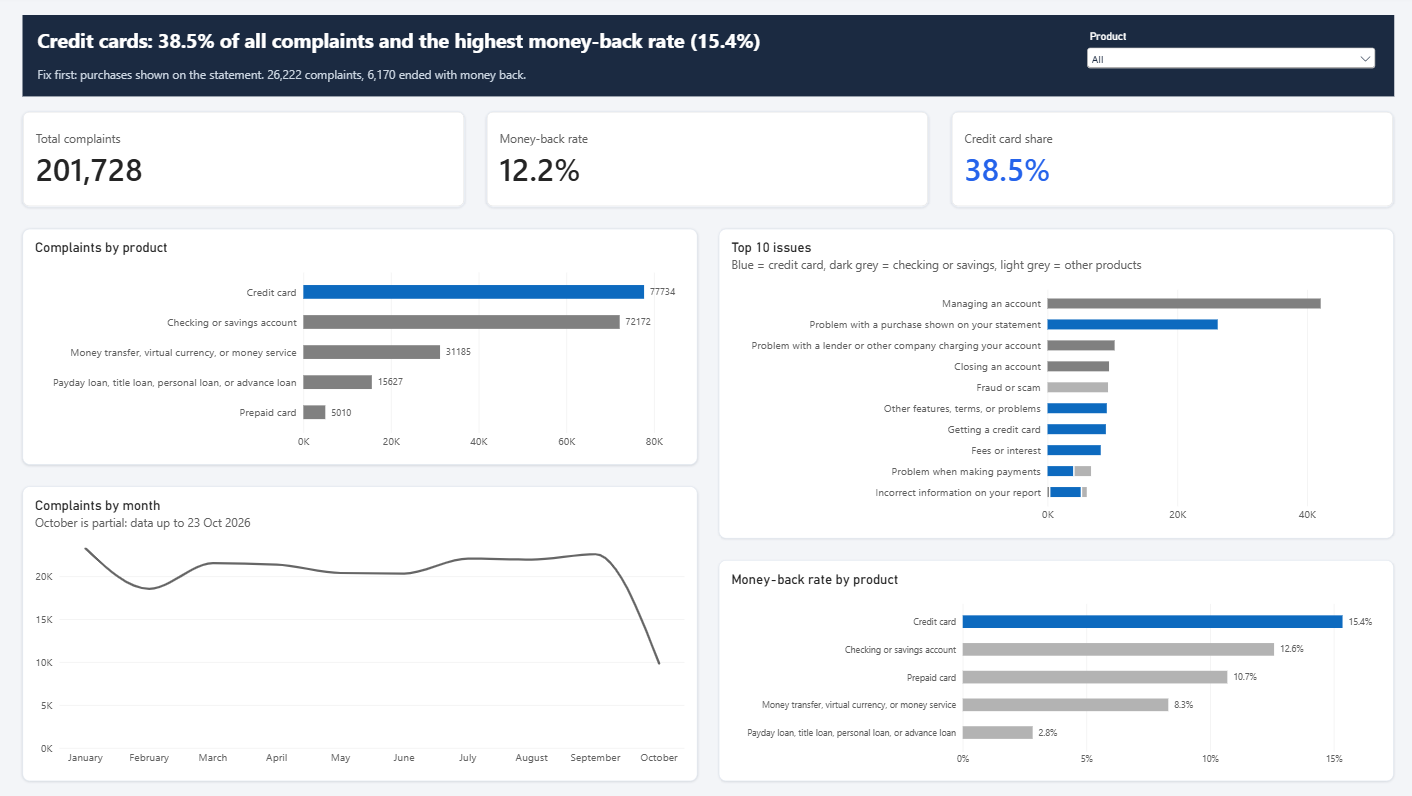

The dashboard page shown, as its layout file describes it:
{"tool":"powerbi","page":{"name":"Page 1","canvas":[1920,1080],"ordinal":0},"visuals":[{"type":"cardVisual","fields":{"Data":["all_complaints.Total Complaints Label"]},"box":[30,150,600,130],"z":0},{"type":"cardVisual","fields":{"Data":["all_complaints.Money Back Rate"]},"box":[660,150,600,130],"z":1000},{"type":"cardVisual","fields":{"Data":["all_complaints.Credit Card Share"]},"box":[1290,150,600,130],"z":2000},{"type":"textbox","box":[30,20,1860,110],"z":3000},{"type":"clusteredBarChart","title":"Complaints by product","fields":{"Category":["all_complaints.Product"],"Y":["all_complaints.Total Complaints"]},"box":[30,310,915,320],"z":4000},{"type":"barChart","title":"Top 10 issues","fields":{"Category":["all_complaints.Issue"],"Series":["all_complaints.Product"],"Y":["all_complaints.Total Complaints"]},"box":[975,310,915,420],"z":5000},{"type":"lineChart","title":"Complaints by month","fields":{"Category":["all_complaints.Date_received.Variation.Date Hierarchy.Month"],"Y":["all_complaints.Total Complaints"]},"box":[30,660,915,400],"z":6000},{"type":"clusteredBarChart","title":"Money-back rate by product","fields":{"Category":["all_complaints.Product"],"Y":["all_complaints.Money Back Rate"]},"box":[975,760,915,300],"z":6001},{"type":"slicer","fields":{"Values":["all_complaints.Product"]},"box":[1470,40,400,70],"z":6002}]}

Visuals, with their boxes in screenshot pixels (x1, y1, x2, y2), scaled from the page's 1920x1080 canvas onto the 1412x796 screenshot:
cardVisual - all_complaints.Total Complaints Label: Rect(22, 111, 463, 206)
cardVisual - all_complaints.Money Back Rate: Rect(485, 111, 927, 206)
cardVisual - all_complaints.Credit Card Share: Rect(949, 111, 1390, 206)
textbox: Rect(22, 15, 1390, 96)
"Complaints by product" clusteredBarChart: Rect(22, 228, 695, 464)
"Top 10 issues" barChart: Rect(717, 228, 1390, 538)
"Complaints by month" lineChart: Rect(22, 486, 695, 781)
"Money-back rate by product" clusteredBarChart: Rect(717, 560, 1390, 781)
slicer - all_complaints.Product: Rect(1081, 29, 1375, 81)
